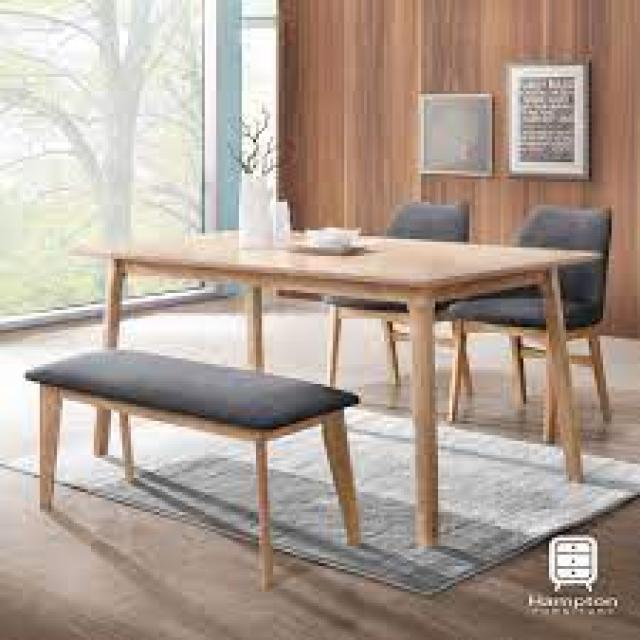table: (23, 175, 628, 566)
